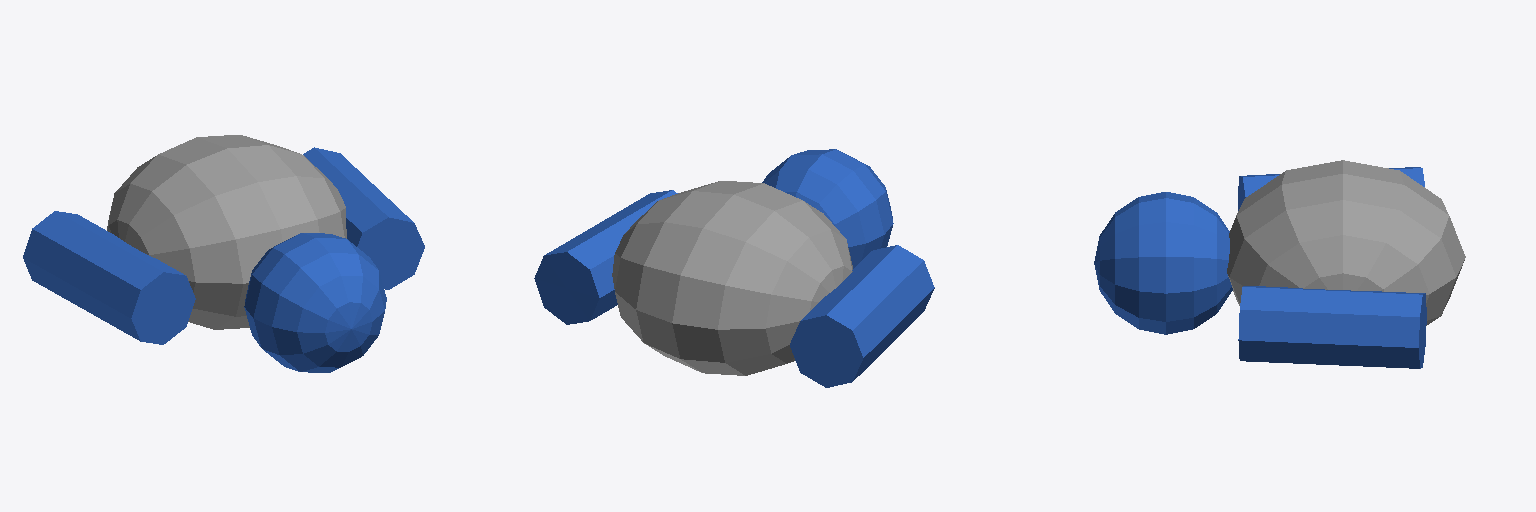
The model's file is player.obj.
The picture shows the model from 3 angles: view 1: azimuth 30°, elevation 25°; view 2: azimuth 150°, elevation 25°; view 3: azimuth 270°, elevation 25°; orthographic projection.
Visible parts, largest first — view 1: Sphere.001_~tmp-mesh, Sphere_~tmp-mesh, Cylinder.001_~tmp-mesh, Cylinder_~tmp-mesh; view 2: Sphere.001_~tmp-mesh, Cylinder.001_~tmp-mesh, Sphere_~tmp-mesh, Cylinder_~tmp-mesh; view 3: Sphere.001_~tmp-mesh, Sphere_~tmp-mesh, Cylinder_~tmp-mesh, Cylinder.001_~tmp-mesh.
Part boxes in pixels (left/top/right/bottom): Sphere.001_~tmp-mesh: left=107, top=135, right=346, bottom=329; Sphere_~tmp-mesh: left=244, top=233, right=386, bottom=372; Cylinder.001_~tmp-mesh: left=23, top=211, right=195, bottom=344; Cylinder_~tmp-mesh: left=303, top=147, right=424, bottom=289; Sphere.001_~tmp-mesh: left=612, top=181, right=852, bottom=375; Cylinder.001_~tmp-mesh: left=790, top=245, right=934, bottom=387; Sphere_~tmp-mesh: left=762, top=149, right=893, bottom=268; Cylinder_~tmp-mesh: left=534, top=190, right=677, bottom=324; Sphere.001_~tmp-mesh: left=1227, top=160, right=1465, bottom=325; Sphere_~tmp-mesh: left=1094, top=192, right=1232, bottom=334; Cylinder_~tmp-mesh: left=1238, top=286, right=1426, bottom=368; Cylinder.001_~tmp-mesh: left=1238, top=167, right=1424, bottom=210.
Bounding box in the file's own units: 1.18 × 0.5733 × 1.15.